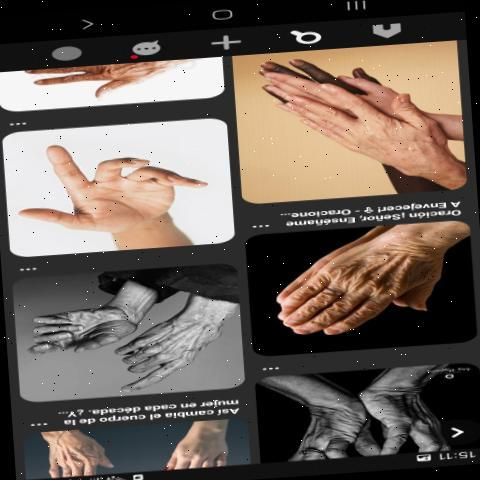Hands: (12, 140, 211, 237), (266, 238, 446, 344), (277, 88, 461, 186), (98, 310, 227, 391), (20, 291, 135, 353)
